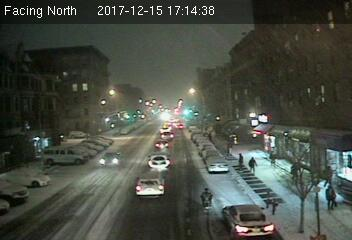bicycle: (199, 186, 214, 216)
car: (222, 204, 275, 237), (135, 175, 167, 198), (98, 151, 122, 169), (204, 156, 228, 173), (146, 154, 170, 169), (153, 140, 169, 151), (160, 131, 174, 139)
pedestrian: (248, 157, 257, 175)
